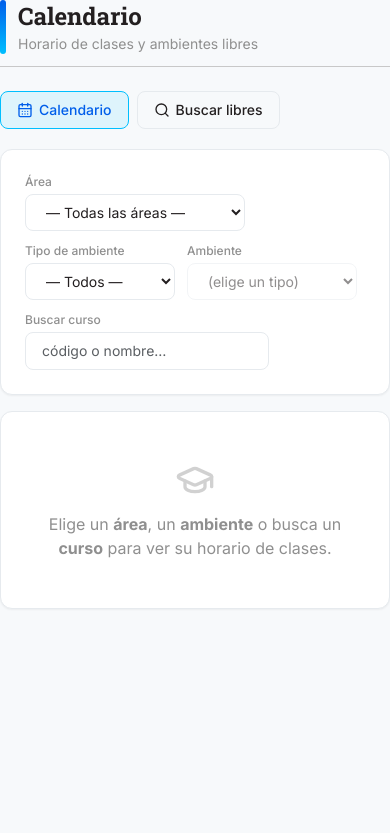
Test case: AulasPage › la grilla de ocupación del día está integrada (sin toggle) con la franja buscada resaltada
Click the button "Buscar libres" at x=208, y=110, box [136,91,280,129]
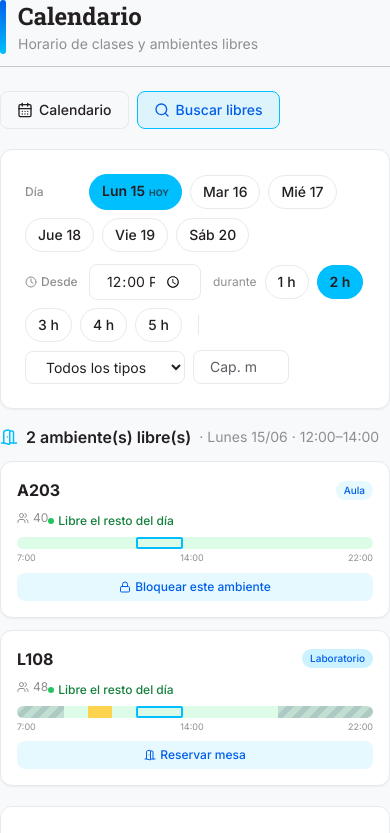
Result: the element named "No atiende antes de las 09:00 (no se reserva)" is shown at [17,706,64,718]
Result: the element named "No atiende después de las 18:00 (no se reserva)" is shown at [278,706,373,718]
